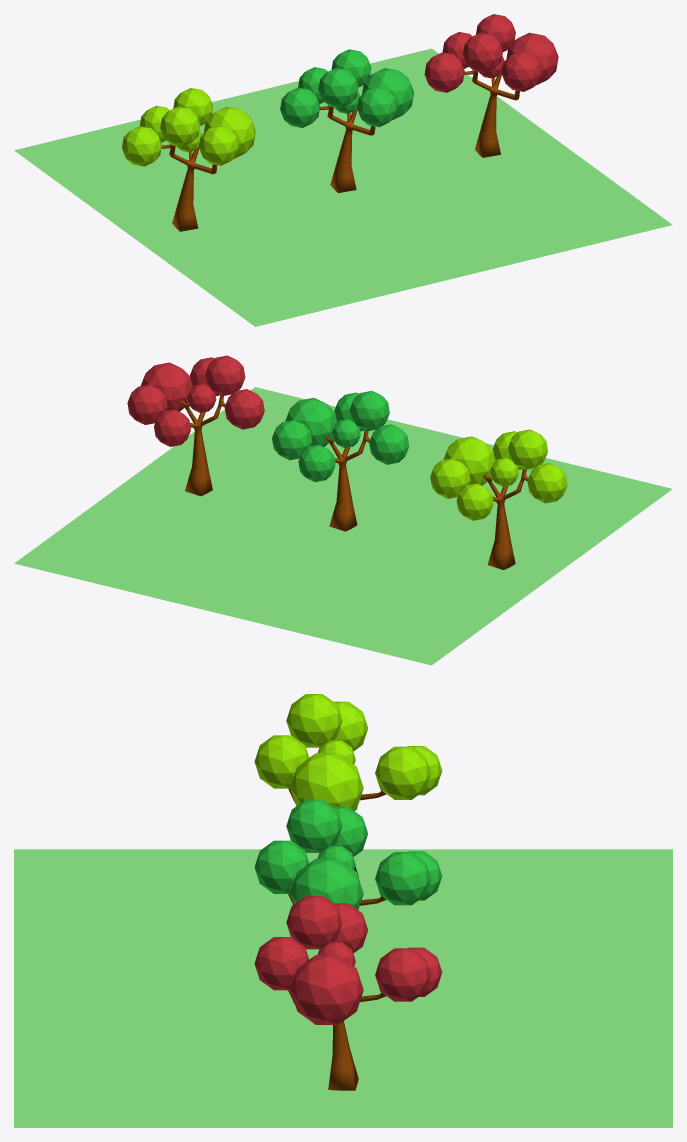
Rendered from Trees 001.fbx.
3 renders of one model, top to bottom at view 1: azimuth 30°, elevation 25°; view 2: azimuth 150°, elevation 25°; view 3: azimuth 270°, elevation 25°, orthographic. The views are drawn at different scales.
Visible parts, largest first — view 1: Plane, Cube.001, Cube.002, Cube, Icosphere.010, Icosphere.014, Icosphere.017, Icosphere.016, Icosphere.001, Icosphere.002, Icosphere.003, Icosphere (+10 smaller); view 2: Plane, Cube, Cube.001, Cube.002, Icosphere.010, Icosphere.003, Icosphere.017, Icosphere, Icosphere.014, Icosphere.007, Icosphere.001, Icosphere.008 (+10 smaller); view 3: Plane, Icosphere.017, Icosphere.010, Icosphere.003, Icosphere.005, Icosphere.012, Icosphere.019, Icosphere.001, Icosphere.008, Icosphere.015, Icosphere.002, Icosphere.016 (+5 smaller).
Part boxes in pixels (x1,y1,x2,y2): Plane: (14, 48, 672, 326); Cube.001: (161, 144, 217, 231); Cube.002: (464, 71, 519, 157); Cube: (319, 106, 375, 193); Icosphere.010: (203, 106, 255, 159); Icosphere.014: (424, 52, 464, 92); Icosphere.017: (506, 32, 558, 85); Icosphere.016: (501, 51, 541, 91); Icosphere.001: (318, 68, 358, 108); Icosphere.002: (357, 86, 397, 127); Icosphere.003: (362, 68, 413, 120); Icosphere: (280, 87, 320, 127); Plane: (14, 387, 672, 665); Cube: (325, 430, 370, 531); Cube.001: (483, 469, 528, 570); Cube.002: (180, 395, 225, 496); Icosphere.010: (443, 436, 494, 485); Icosphere.003: (285, 398, 336, 446); Icosphere.017: (141, 362, 192, 411); Icosphere: (369, 424, 409, 464); Icosphere.014: (224, 389, 264, 429); Icosphere.007: (527, 463, 567, 503); Icosphere.001: (349, 391, 389, 431); Icosphere.008: (508, 429, 547, 469); Plane: (14, 849, 672, 1127); Icosphere.017: (290, 955, 363, 1024); Icosphere.010: (290, 753, 363, 810); Icosphere.003: (290, 858, 363, 909); Icosphere.005: (375, 852, 430, 905); Icosphere.012: (375, 746, 430, 799); Icosphere.019: (375, 948, 430, 1001); Icosphere.001: (286, 799, 342, 852); Icosphere.008: (286, 694, 342, 747); Icosphere.015: (286, 896, 342, 949); Icosphere.002: (254, 840, 308, 893); Icosphere.016: (254, 937, 309, 990).
Bounding box in the file's own units: 1707 × 496 × 1664.
